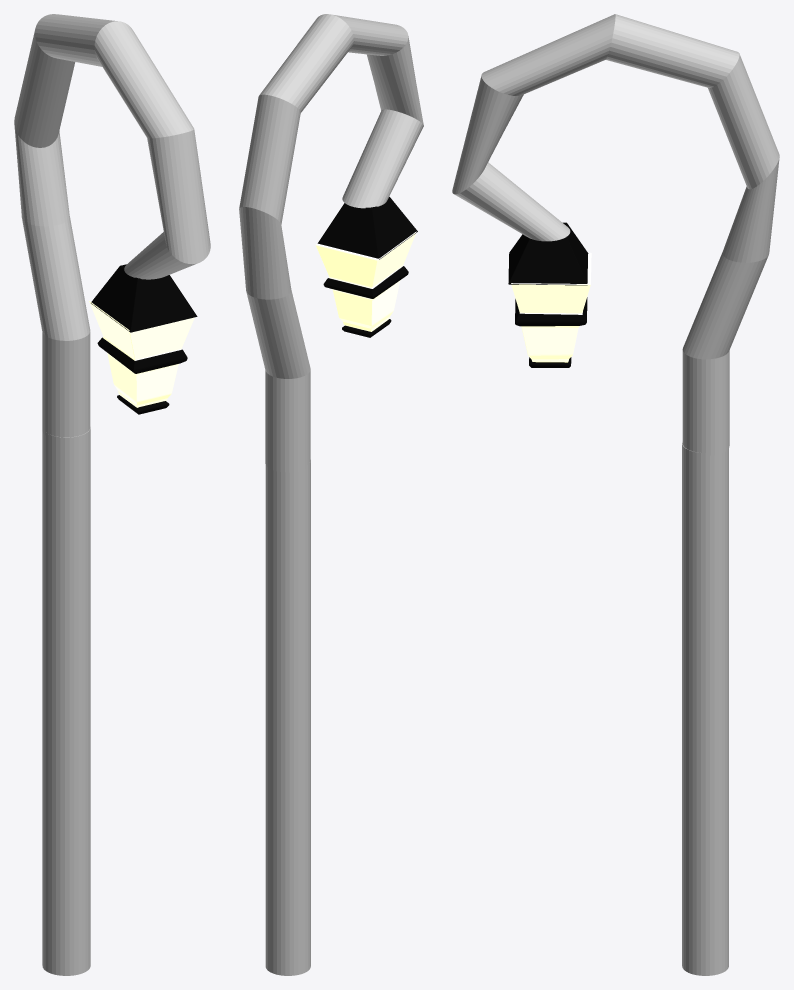
Rendered from Lightpost.fbx.
The picture shows the model from 3 angles, left to right: view 1: azimuth 30°, elevation 25°; view 2: azimuth 150°, elevation 25°; view 3: azimuth 270°, elevation 25°; orthographic projection. The views are drawn at different scales.
Visible parts, largest first — view 1: Cylinder, Cube.069; view 2: Cylinder, Cube.069; view 3: Cylinder, Cube.069.
Part boxes in pixels (box(x1,y1,x2,y2)): Cylinder: box(14, 14, 210, 975); Cube.069: box(89, 264, 197, 414); Cylinder: box(239, 14, 423, 975); Cube.069: box(315, 197, 417, 337); Cylinder: box(452, 14, 779, 975); Cube.069: box(508, 222, 591, 367).
Size of the model in its own units: 321 by 4474 by 1398.
